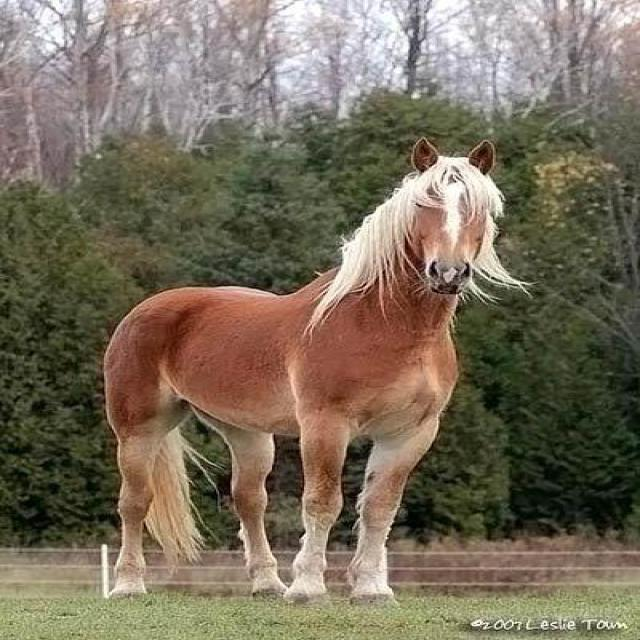horse: (99, 135, 536, 606)
